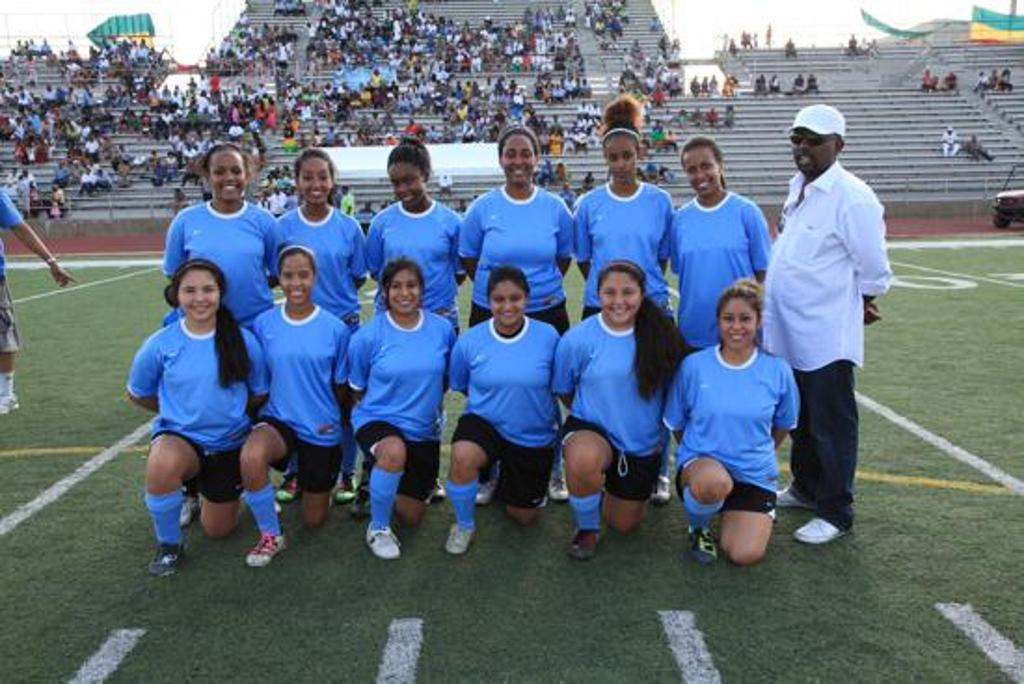face: (792, 126, 835, 175), (600, 280, 642, 325), (178, 277, 221, 319), (210, 162, 247, 201), (721, 308, 756, 348), (492, 287, 526, 326), (685, 155, 717, 195), (389, 168, 422, 206), (503, 145, 534, 185), (281, 263, 311, 303), (390, 276, 420, 314), (608, 147, 638, 181), (301, 168, 331, 201)
